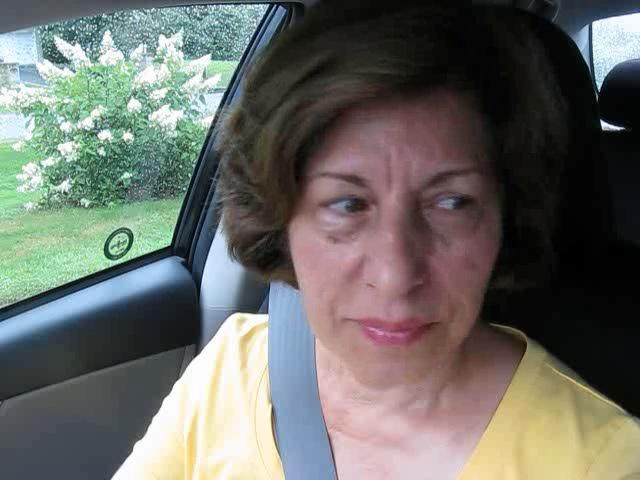no_yawn: (340, 310, 445, 361)
open_eyeL: (303, 181, 386, 233)
open_eyeR: (414, 183, 500, 227)
